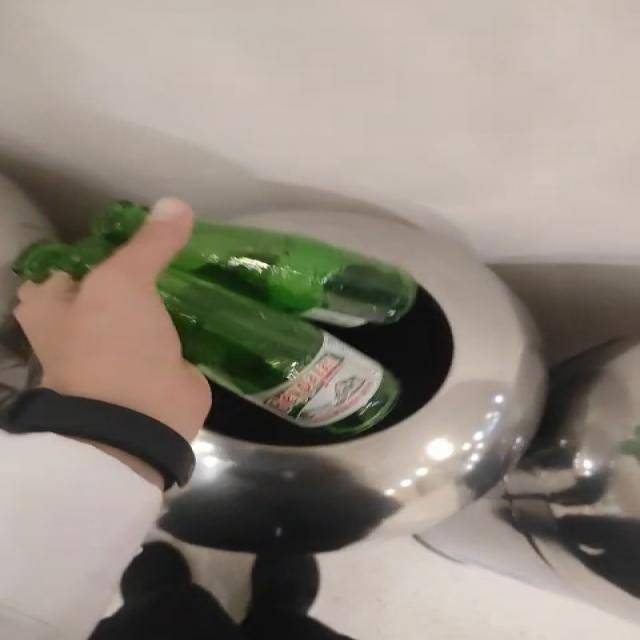glass: (157, 222, 417, 433), (12, 201, 147, 281)
